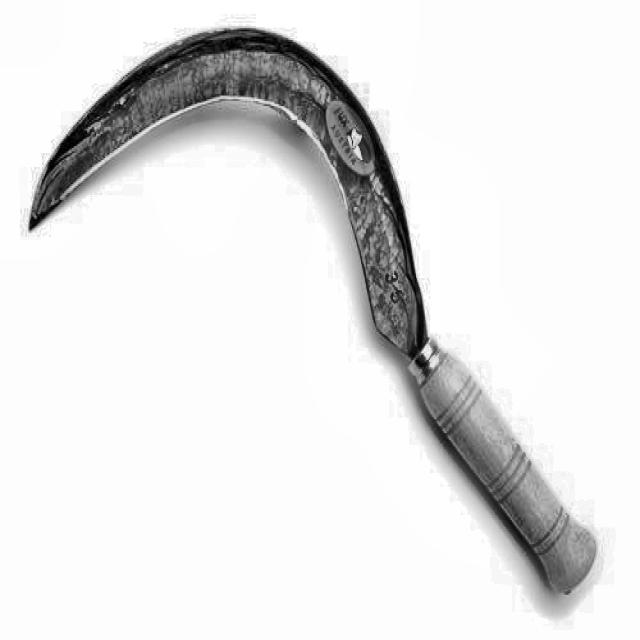celurit: (33, 14, 616, 602)
